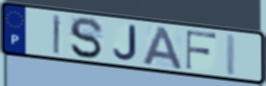A: (141, 25, 185, 71)
F: (184, 29, 219, 72)
I: (224, 32, 239, 78), (52, 13, 63, 56)
J: (111, 24, 139, 62)
S: (68, 15, 105, 61)
